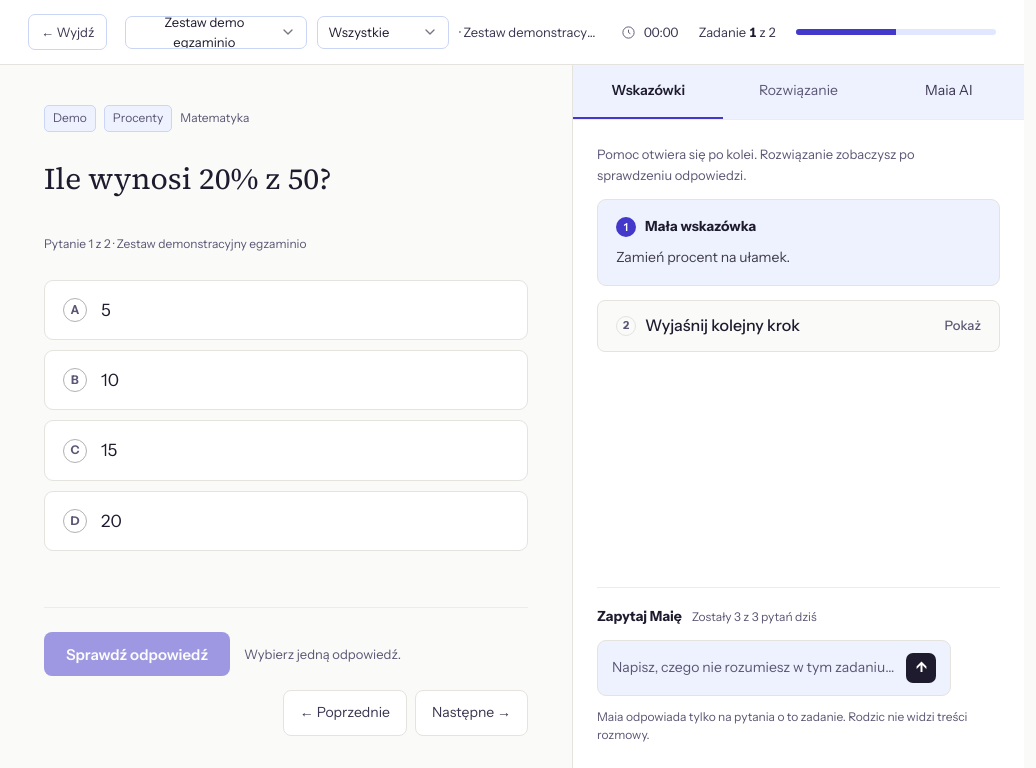
Test: StudentPractice focus mode › keeps the Tutor composer usable and sends a question about the current task
The width and height of the screenshot is (1036, 768).
Click the tab "Maia AI". click: (949, 92)
box: [874,65,1024,119]
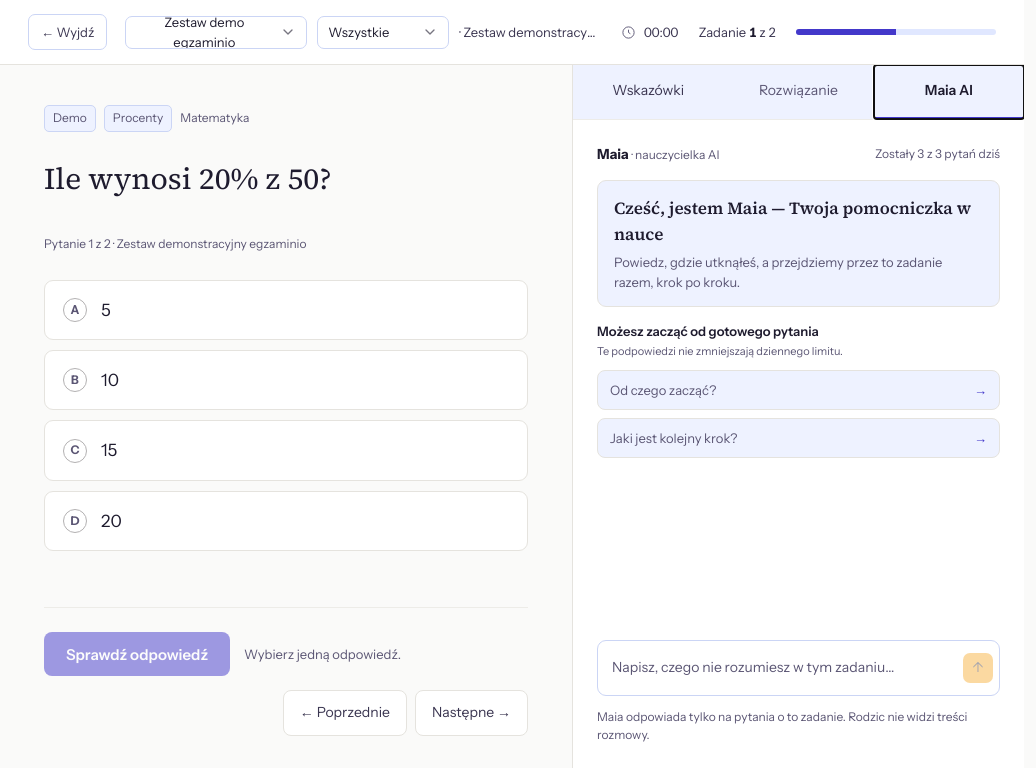
Type "Dlaczego?" into the text box named "Pytanie do nauczyciela AI". click: (782, 668)
box: [612,647,951,689]
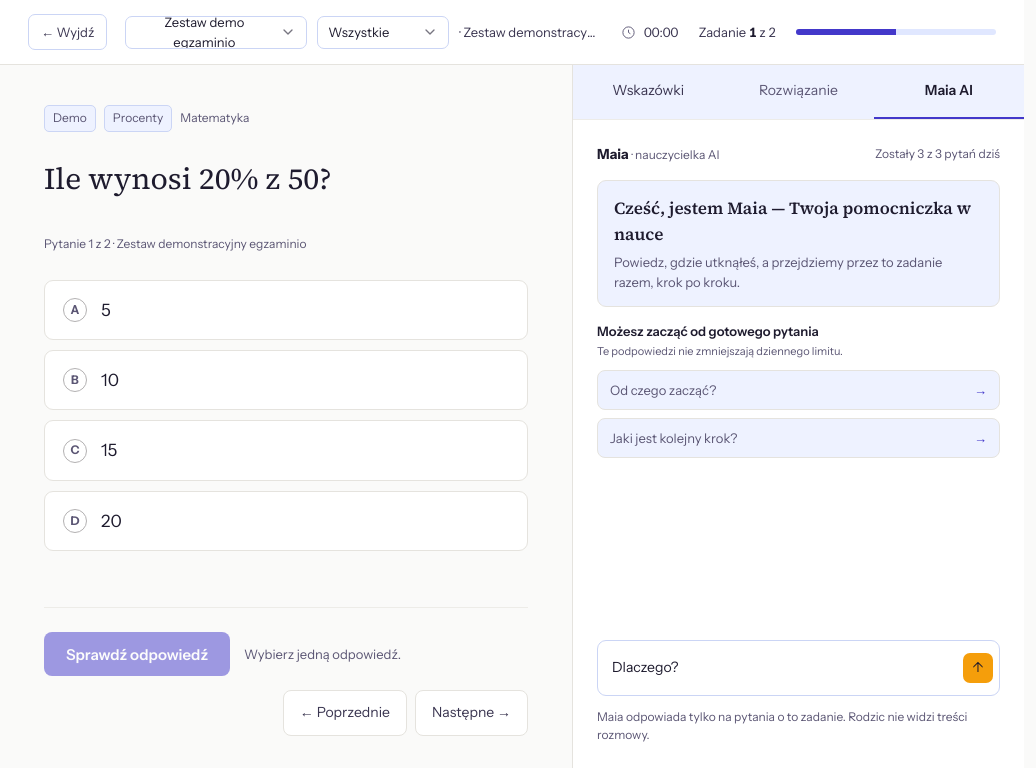
Click the button named "Wyślij pytanie". click: (978, 668)
box: [963,653,993,683]
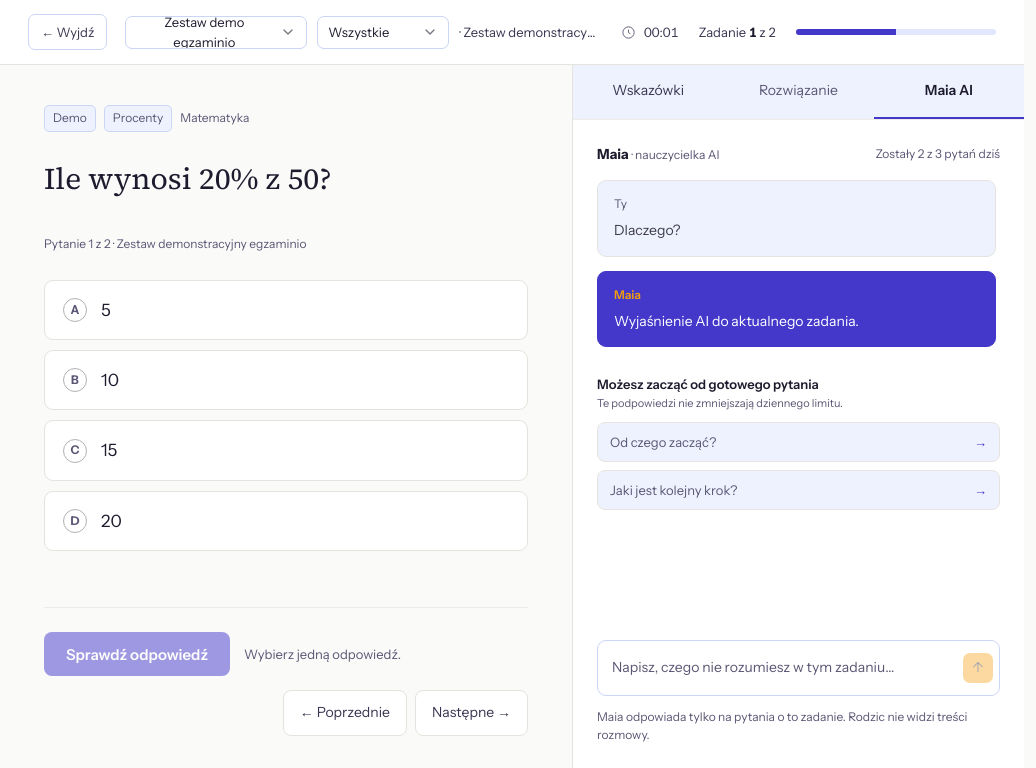
Expected: the text "Wyjaśnienie AI do aktualnego zadania." is shown, [614,312,859,330]
Expected: the text box named "Pytanie do nauczyciela AI" is empty, [612,647,951,689]
